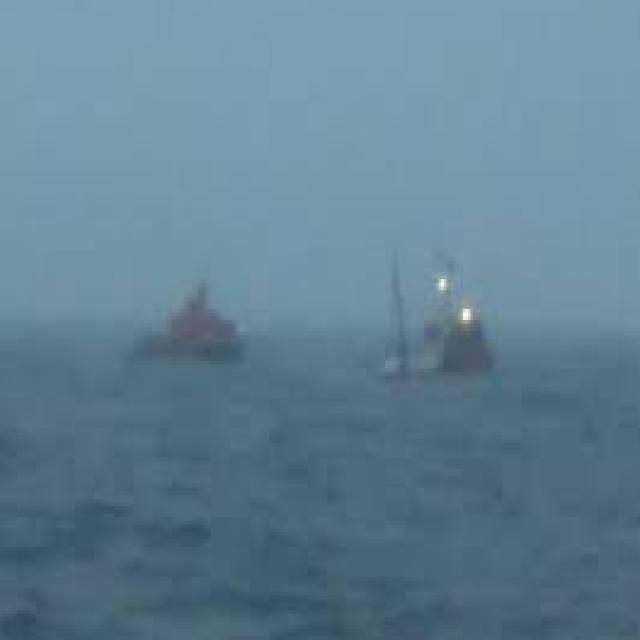fishing boat: (106, 258, 249, 384), (373, 256, 504, 391)
